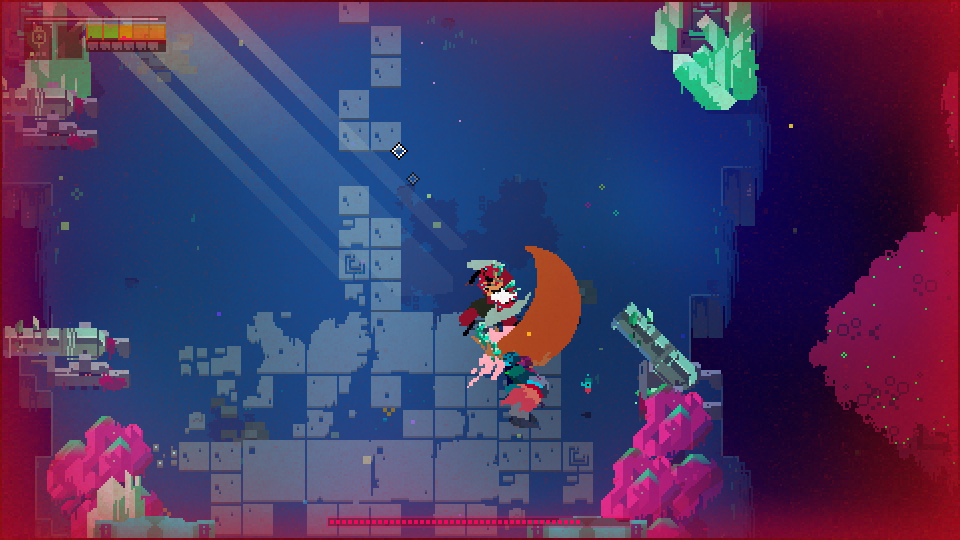hanged_man: (457, 246, 545, 367)
player: (497, 381, 549, 424)
